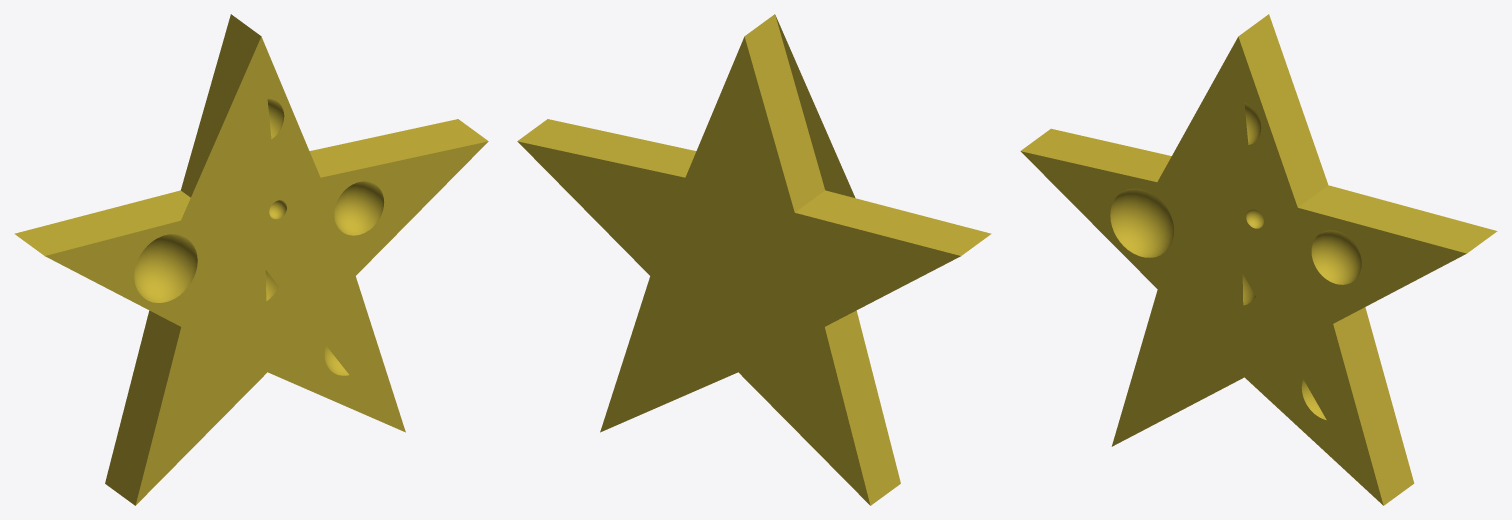
The model's file is Star Cheese.fbx.
3 views of the same model, side by side, from view 1: azimuth 30°, elevation 25°; view 2: azimuth 150°, elevation 25°; view 3: azimuth 330°, elevation 25° (orthographic).
Parts seen in each view (by area): view 1: polySurface9; view 2: polySurface9; view 3: polySurface9.
Part boxes in pixels (x1,y1,x2,y2): polySurface9: [14, 14, 488, 505]; polySurface9: [517, 14, 991, 505]; polySurface9: [1020, 14, 1497, 505].
Bounding box in the file's own units: 5.46 × 5.16 × 0.6502.
